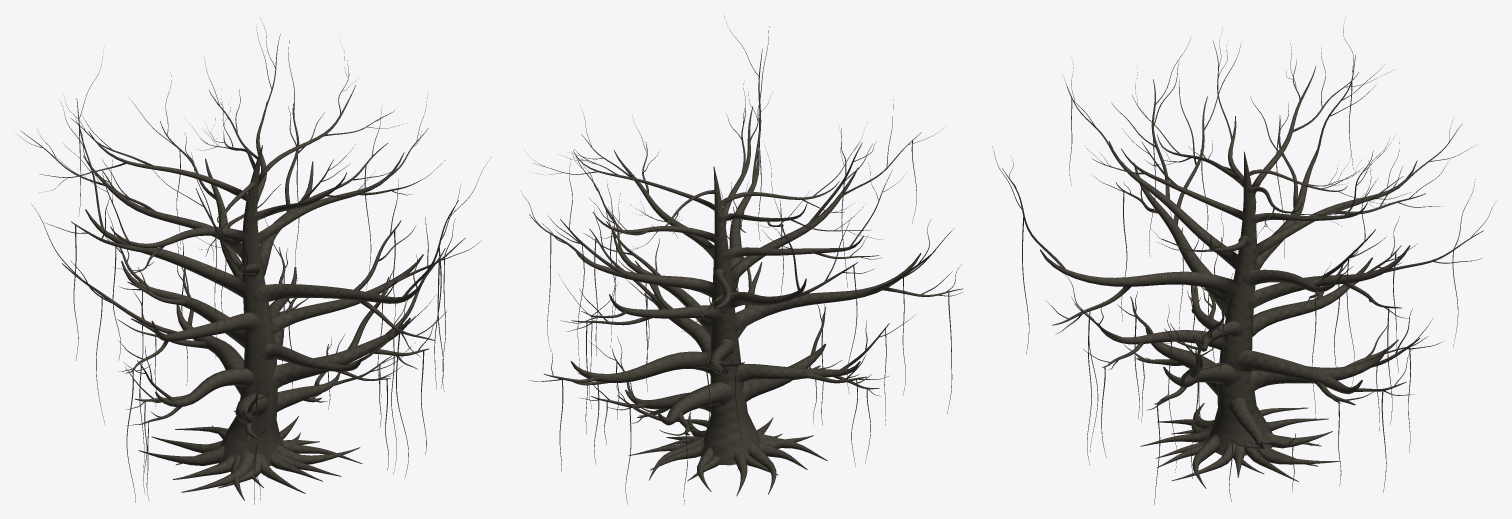
Rendered from tree.gltf.
3 renders of one model, left to right at view 1: azimuth 30°, elevation 25°; view 2: azimuth 150°, elevation 25°; view 3: azimuth 270°, elevation 25°, orthographic. The views are drawn at different scales.
Visible parts, largest first — view 1: Tree_LOD0; view 2: Tree_LOD0; view 3: Tree_LOD0.
Boxes of the visible parts, box(x1,y1,x2,y2) form: Tree_LOD0: box(18, 18, 487, 504); Tree_LOD0: box(522, 16, 963, 504); Tree_LOD0: box(992, 17, 1494, 504).
Bounding box in the file's own units: 141 × 131 × 154.
Materials: 1 (1 with a texture image).
